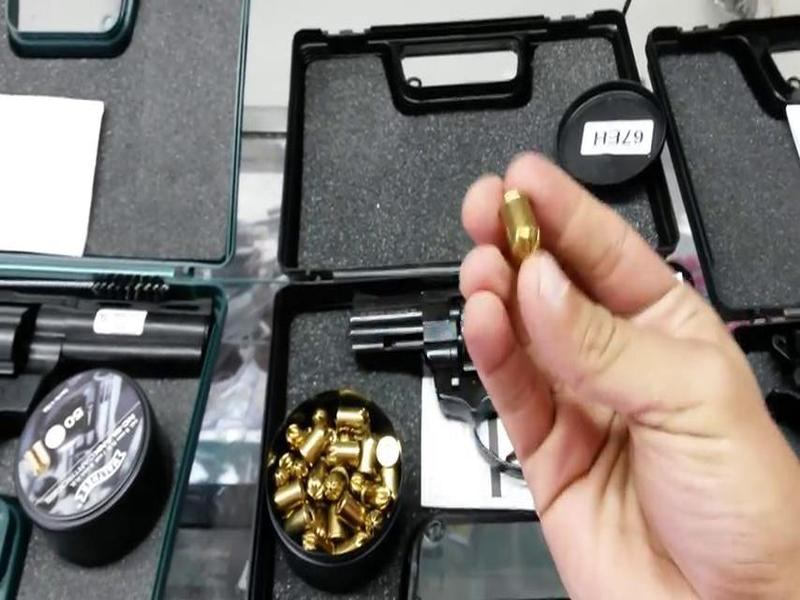Revolver: (1, 278, 255, 439), (324, 254, 565, 423)
